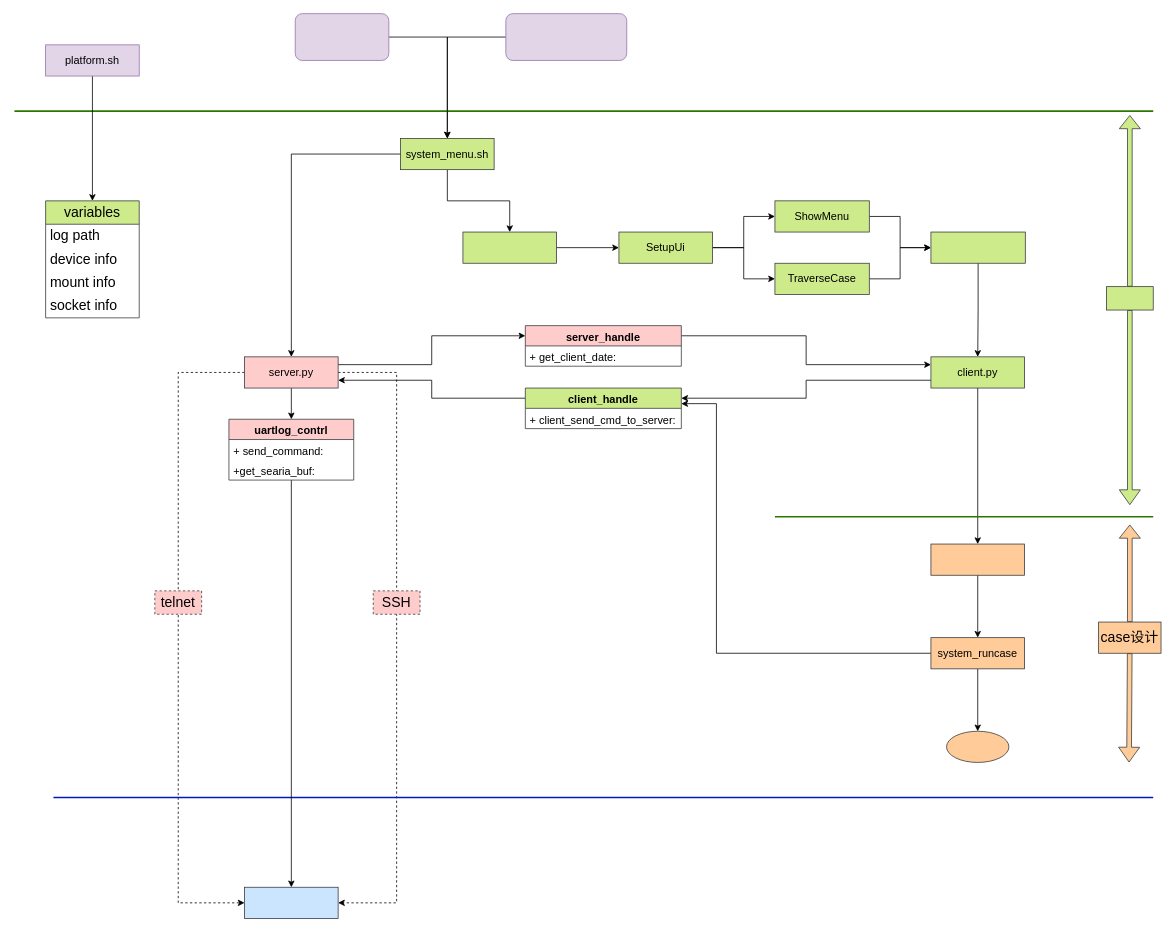
Some shapes in this 1175 by 932 pixel diagram are drawn without their labels. The centre of each missing label's shape, as x and y in pixels:
"./system_menu.sh stage=0x1" belongs at (341,36).
"./system_menu.sh stage=0x1 modules='str' traverse=sorted" belongs at (566,36).
"AddCaseSystem" belongs at (509,247).
"demo board" belongs at (291,902).
"import new_module.py" belongs at (977,559).
"RunCaseDebug" belongs at (977,247).
"框架" belongs at (1129,298).
"结束" belongs at (977,746).
